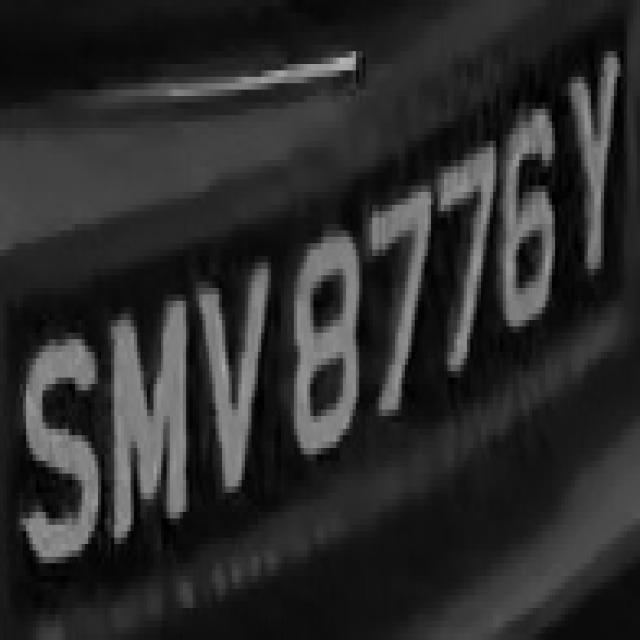6: (490, 102, 555, 372)
7: (350, 166, 434, 454), (424, 134, 503, 397)
8: (290, 205, 362, 461)
M: (95, 275, 199, 570)
S: (16, 314, 98, 588)
V: (176, 244, 278, 518)
Y: (558, 32, 627, 301)
